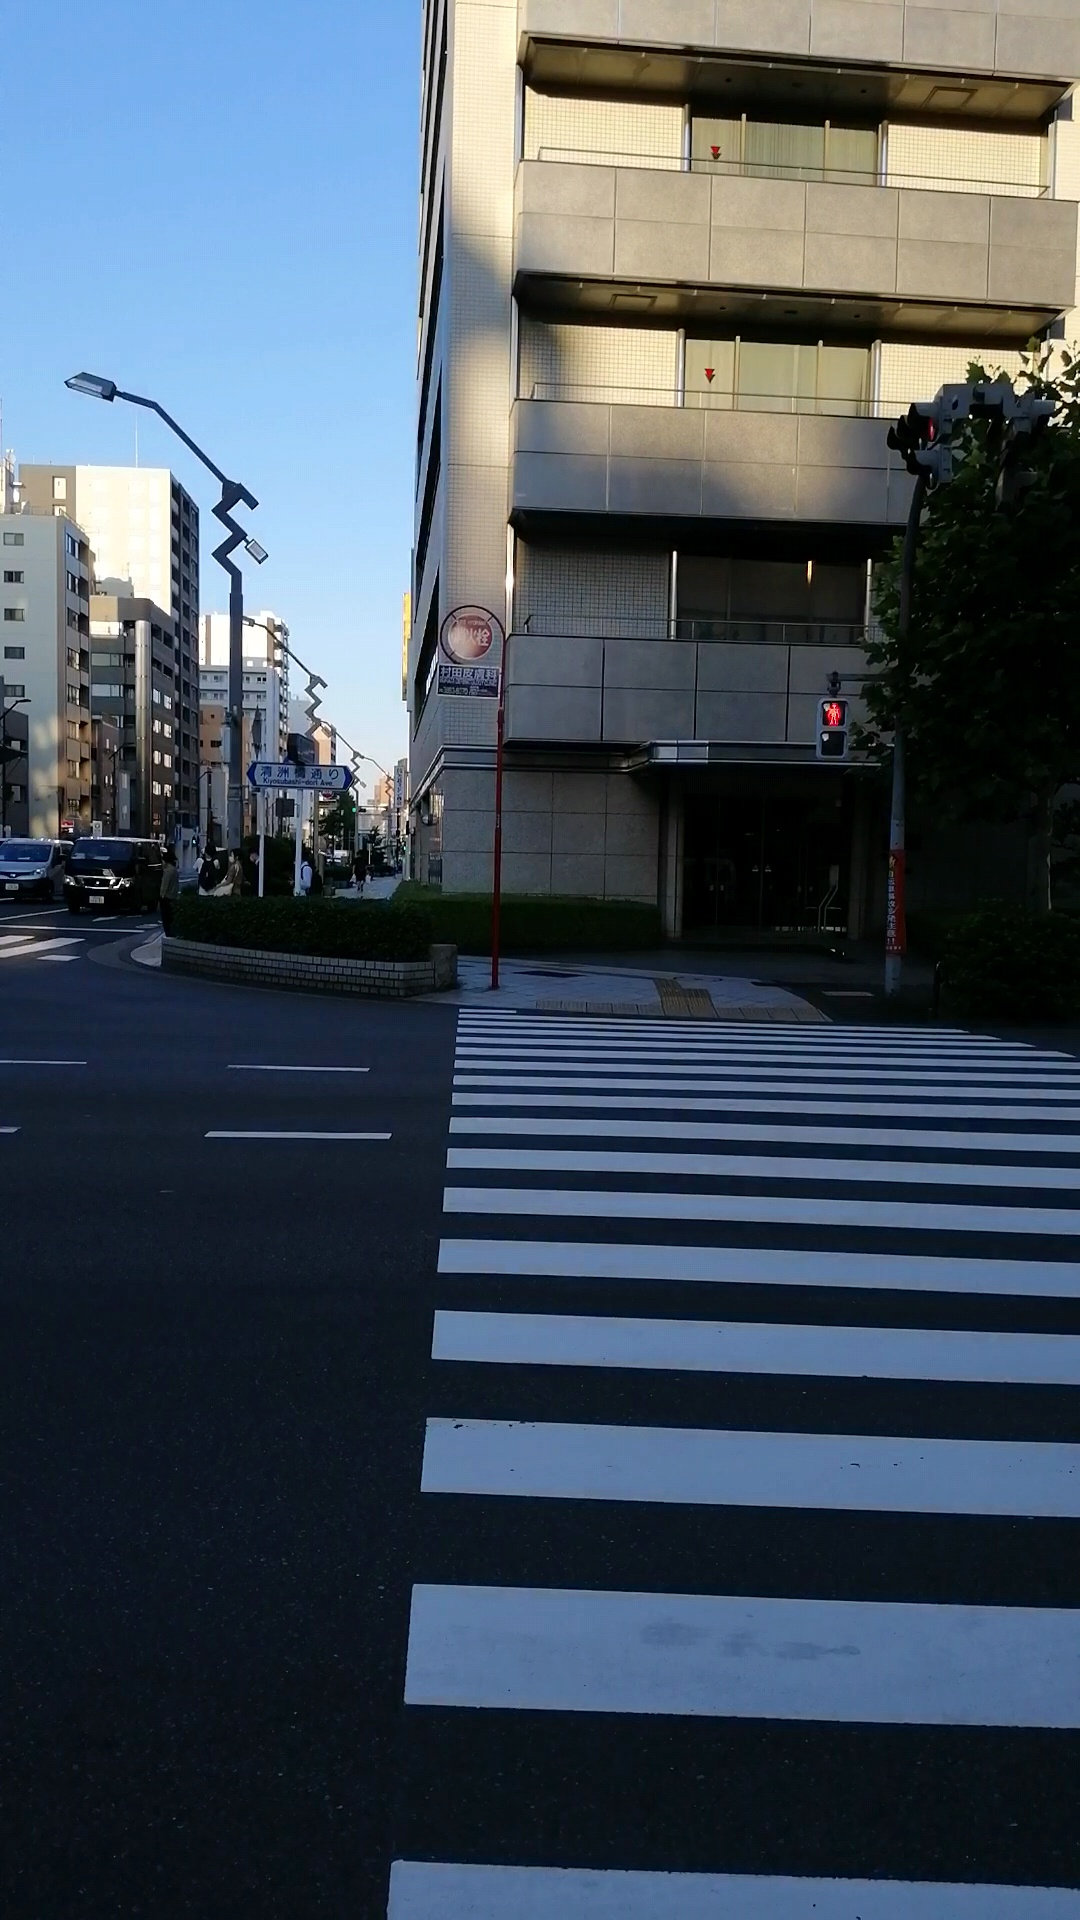red: (816, 696, 848, 762)
